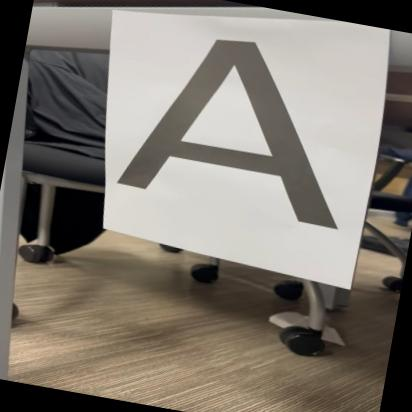seat: (90, 7, 393, 239)
